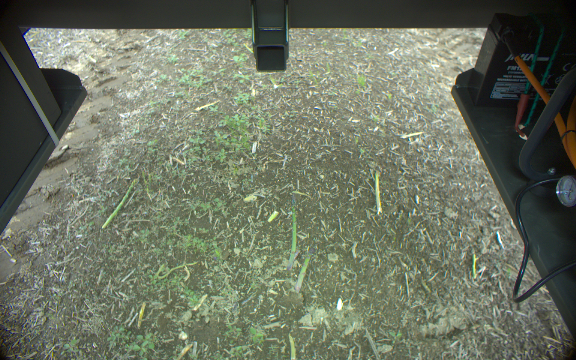aspa: (100, 177, 138, 230), (288, 191, 300, 269), (293, 246, 312, 292), (370, 167, 383, 216), (286, 332, 300, 360)
